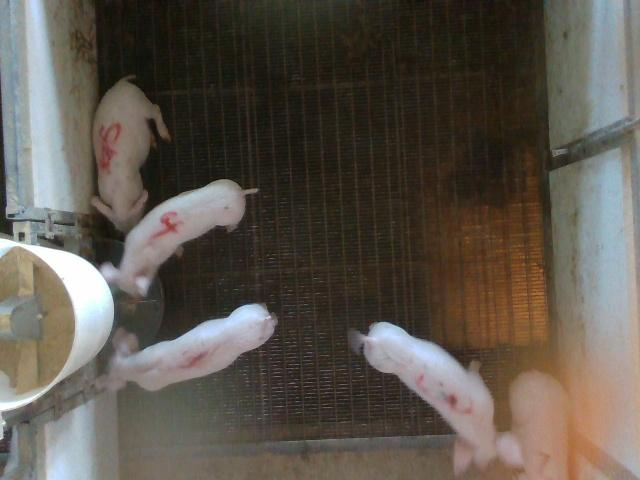pig-1: (96, 304, 276, 391)
pig-3: (351, 322, 522, 476)
pig-4: (100, 179, 256, 296)
pig-5: (91, 75, 170, 233)
